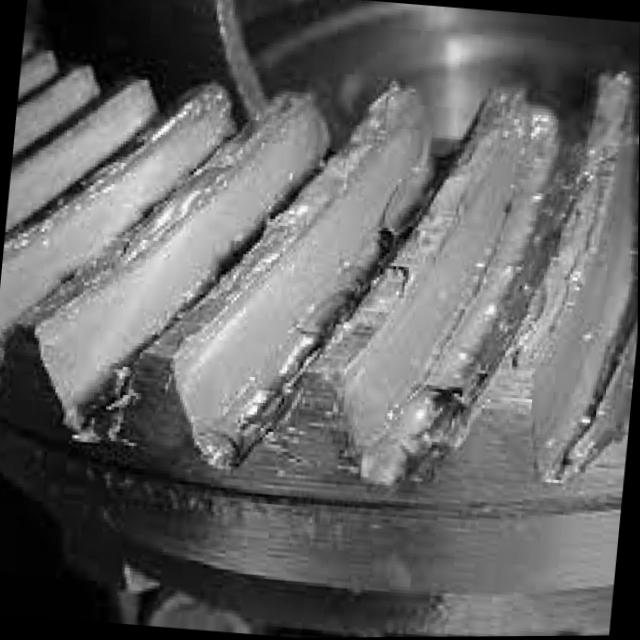Fault-Exist: (1, 38, 640, 491)
